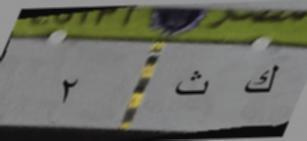2: (57, 72, 81, 110)
kaaf: (239, 63, 279, 100)
thaa: (170, 65, 210, 103)
